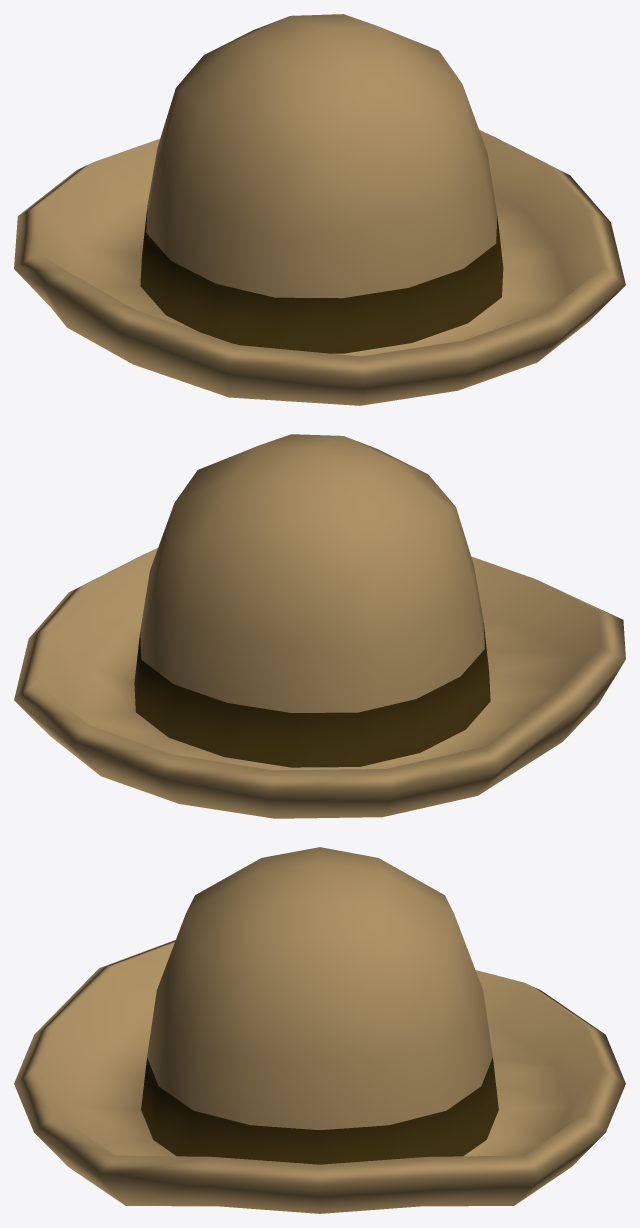
File: mafia_hat.fbx
3 renders of one model, top to bottom at view 1: azimuth 30°, elevation 25°; view 2: azimuth 150°, elevation 25°; view 3: azimuth 270°, elevation 25°, orthographic.
Parts seen in each view (by area): view 1: pCube1; view 2: pCube1; view 3: pCube1.
Boxes of the visible parts, <box> form: pCube1: <box>14,14,625,405</box>; pCube1: <box>14,434,625,818</box>; pCube1: <box>14,847,625,1213</box>.
Size of the model in its own units: 7.07 by 3.36 by 7.17.
